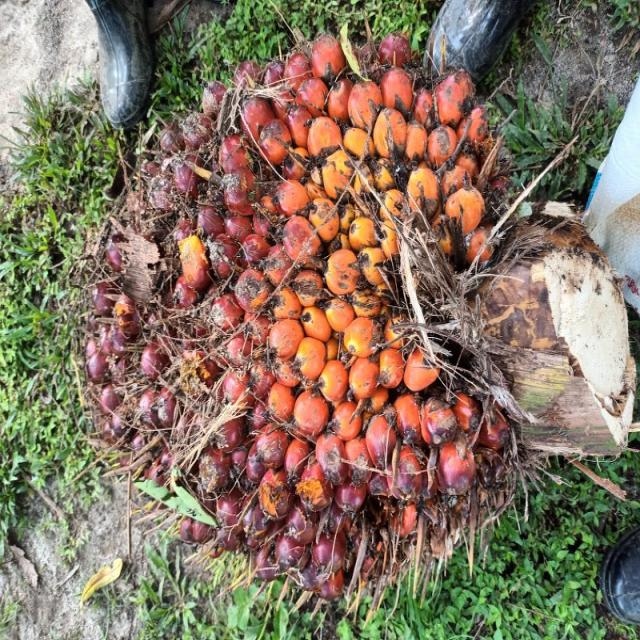fraksi 3: (15, 53, 468, 640)
